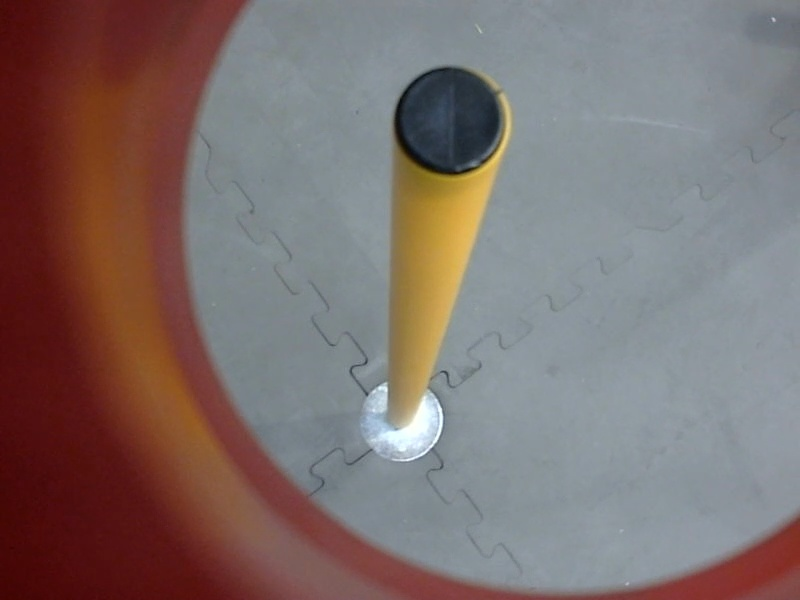tip: (386, 55, 519, 190)
